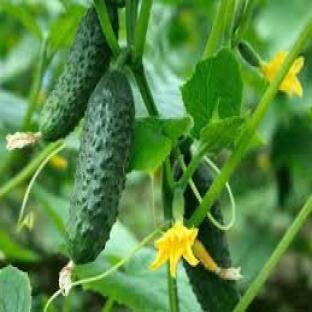Cucumber: (67, 71, 134, 263), (39, 9, 110, 141), (185, 263, 239, 311)
